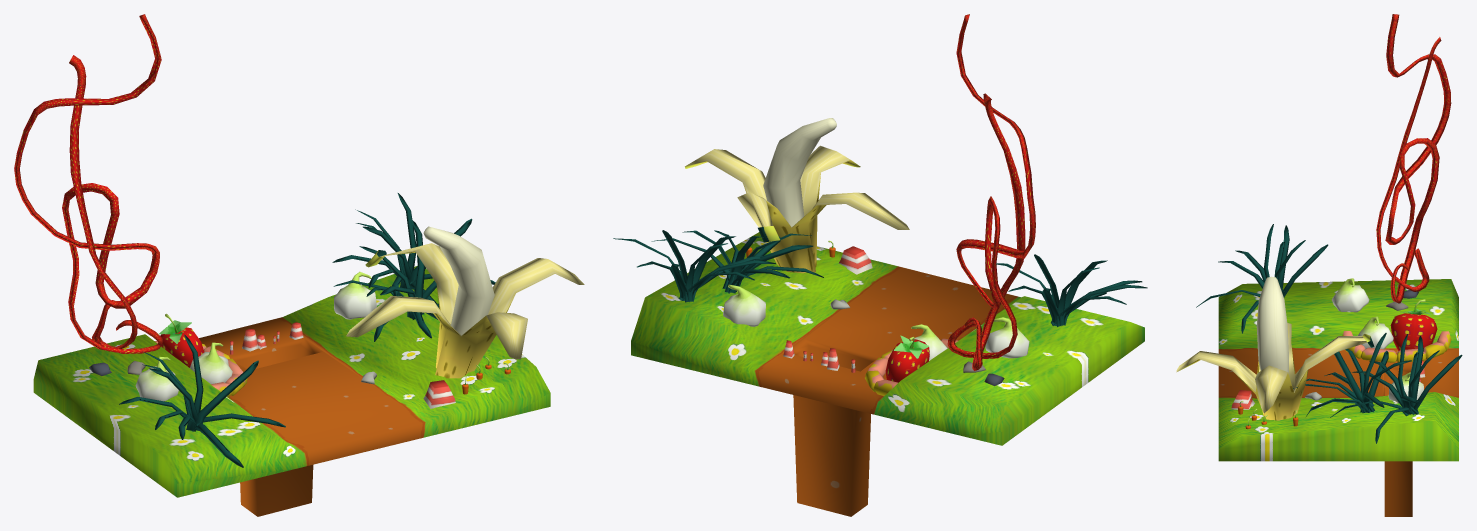
The model's file is D_block_12.FBX.
3 renders of one model, left to right at view 1: azimuth 30°, elevation 25°; view 2: azimuth 150°, elevation 25°; view 3: azimuth 270°, elevation 25°, orthographic. The views are drawn at different scales.
Parts seen in each view (by area): view 1: Sol_trou_01; view 2: Sol_trou_01; view 3: Sol_trou_01.
Boxes of the visible parts, x1,y1,x2,y2 form: Sol_trou_01: (14,14,584,516); Sol_trou_01: (613,14,1147,516); Sol_trou_01: (1176,14,1462,516).
Size of the model in its own units: 1107 by 1205 by 714.
